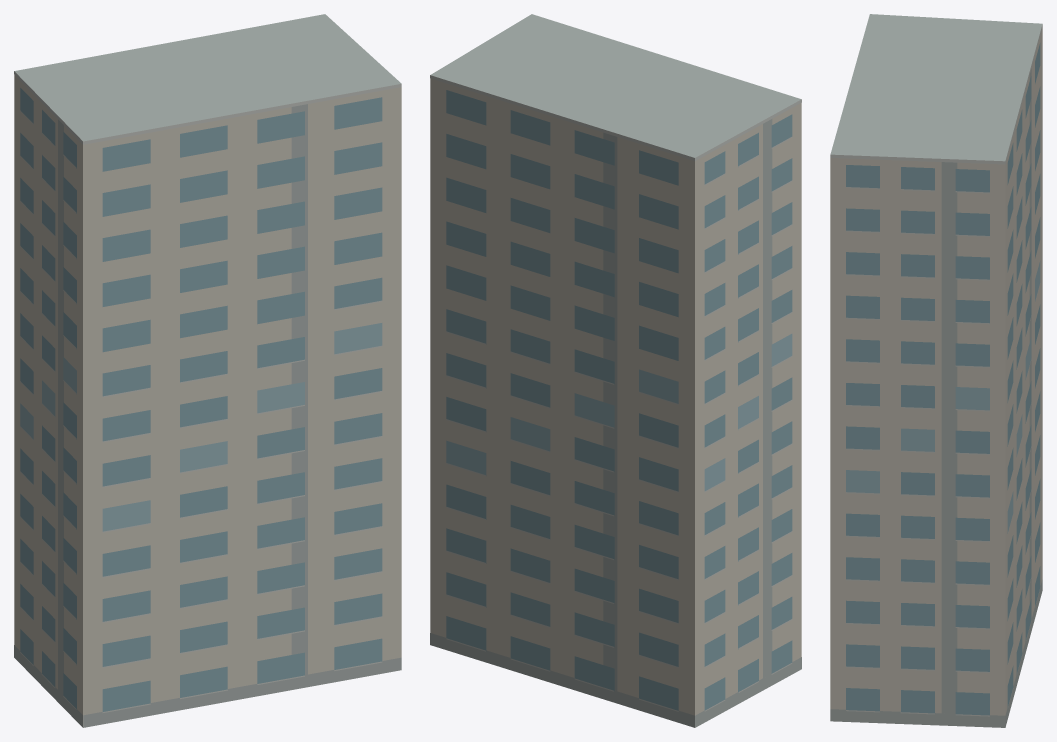
File: residential-6c1f8cab-39ff-4e66-8841-b8a2463fb8dd.glb
3 views of the same model, side by side, from view 1: azimuth 30°, elevation 25°; view 2: azimuth 150°, elevation 25°; view 3: azimuth 270°, elevation 25° (orthographic). The views are drawn at different scales.
Parts seen in each view (by area): view 1: residential-6c1f8cab-39ff-4e66-8841-b8a2463fb8dd.tmp; view 2: residential-6c1f8cab-39ff-4e66-8841-b8a2463fb8dd.tmp; view 3: residential-6c1f8cab-39ff-4e66-8841-b8a2463fb8dd.tmp.
Boxes of the visible parts, box(x1,y1,x2,y2) form: residential-6c1f8cab-39ff-4e66-8841-b8a2463fb8dd.tmp: box(14, 14, 401, 727); residential-6c1f8cab-39ff-4e66-8841-b8a2463fb8dd.tmp: box(430, 14, 801, 727); residential-6c1f8cab-39ff-4e66-8841-b8a2463fb8dd.tmp: box(830, 14, 1042, 727).
Size of the model in its own units: 23.97 by 43 by 14.61.
